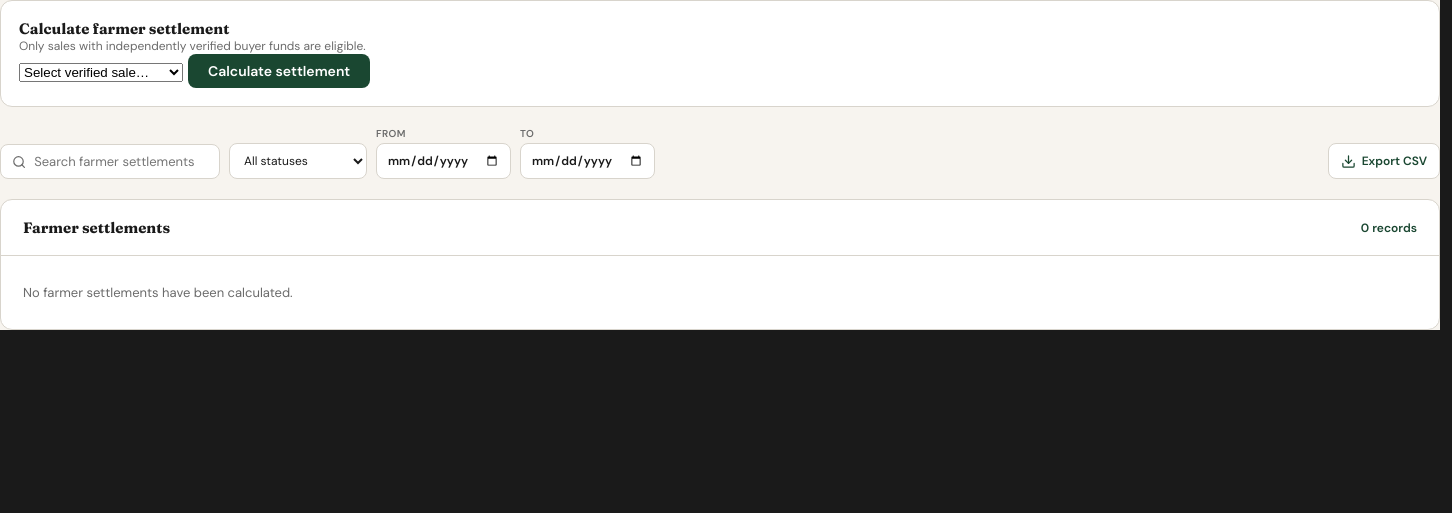
it: farmer settlements › shows an understandable per-farmer gross, deductions, and net preview
The image size is (1452, 513).
Step 1. Select "Sale #9 · GHS 1,000.00" in the dropdown named "Verified sale" → coordinates (101, 72), box [19,62,183,82]
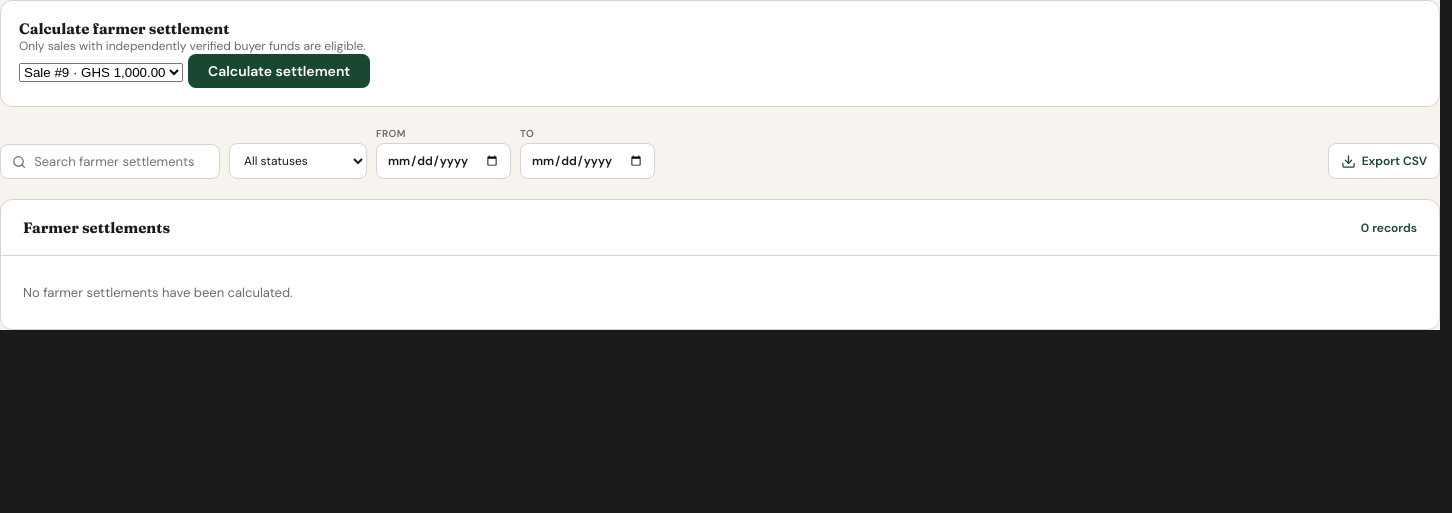
Step 2. Click the button "Calculate settlement" → coordinates (279, 71), box [188,54,370,88]
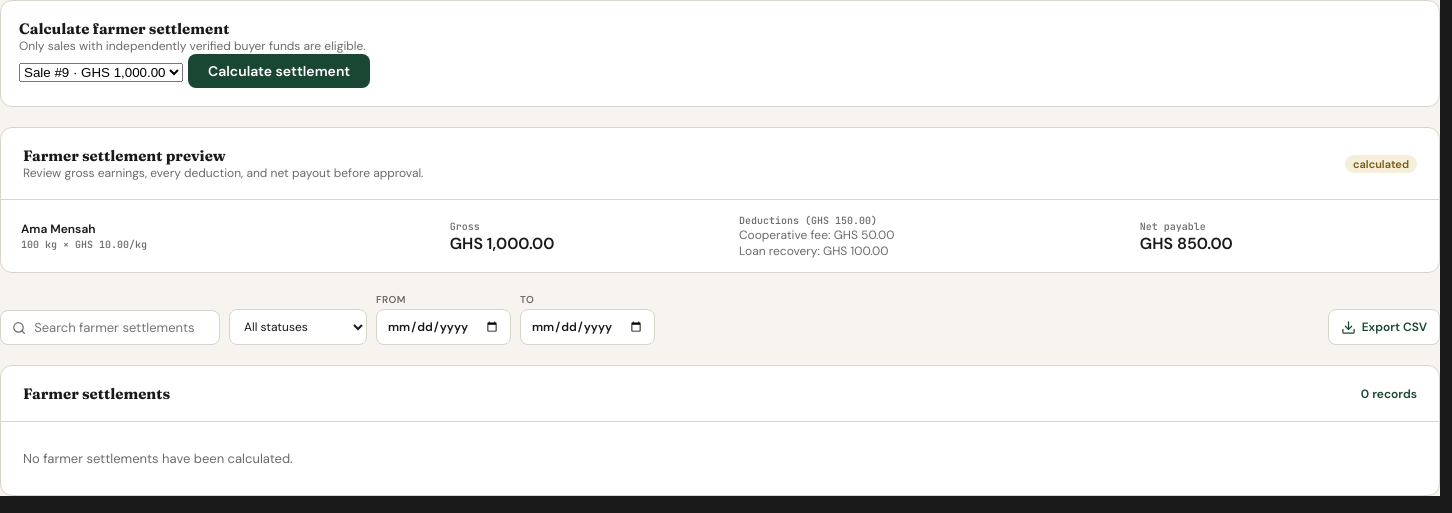
Expected: the text "Farmer settlement preview" is shown, [23,146,226,165]
Expected: the text "Ama Mensah" is shown, [21,221,96,237]
Expected: the text "Cooperative fee: GHS 50.00" is shown, [739,227,894,243]
